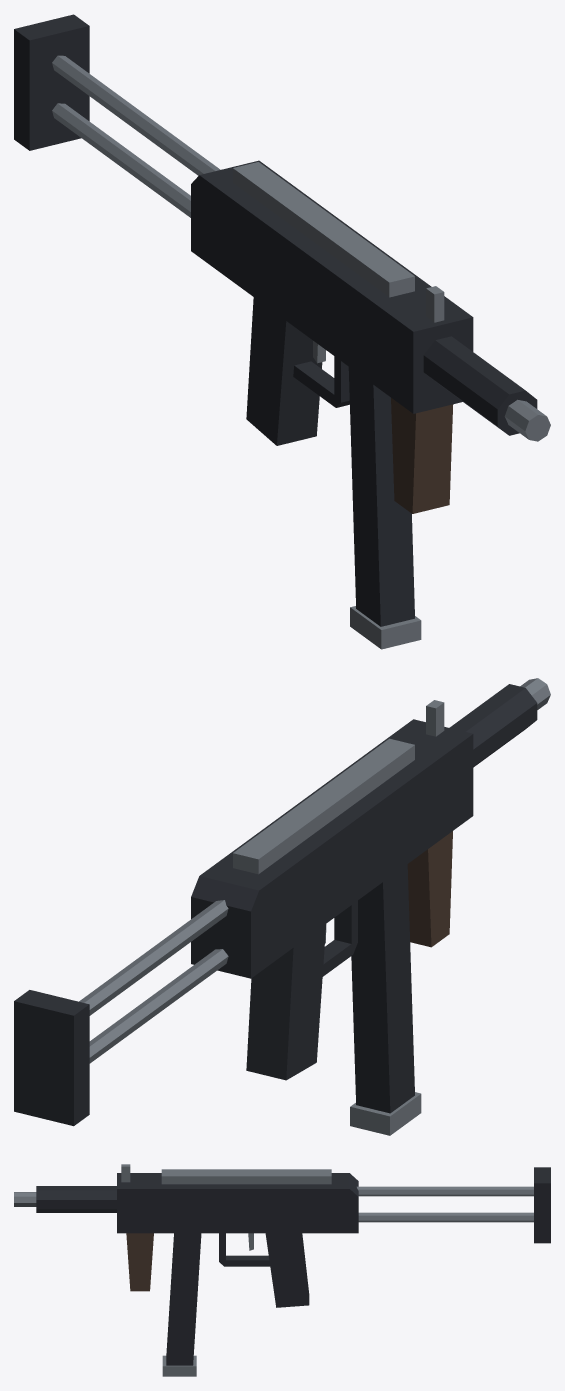
File: smg.glb
3 views of the same model, one above another, from view 1: azimuth 30°, elevation 25°; view 2: azimuth 150°, elevation 25°; view 3: azimuth 270°, elevation 25° (orthographic). The views are drawn at different scales.
Visible parts, largest first — view 1: smg_mesh; view 2: smg_mesh; view 3: smg_mesh.
Boxes of the visible parts, x1,y1,x2,y2 form: smg_mesh: (14, 14, 550, 649); smg_mesh: (14, 678, 550, 1135); smg_mesh: (14, 1164, 550, 1376).
Bounding box in the file's own units: 0.042 × 0.254 × 0.6.
1 material, 1 textured.
